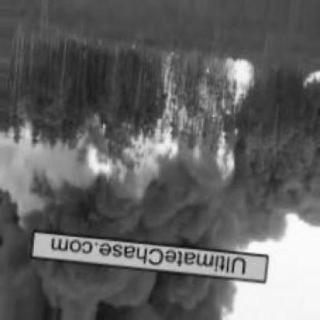Fire: (86, 43, 263, 197), (302, 68, 318, 95)
Smoke: (53, 197, 265, 247), (8, 273, 185, 317)
